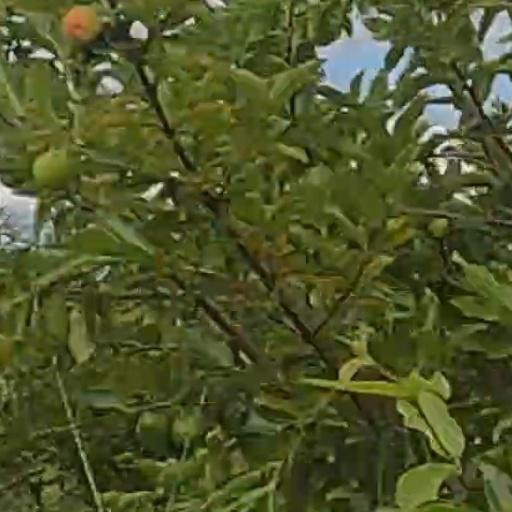acerola: (32, 152, 72, 190), (63, 7, 98, 39)
